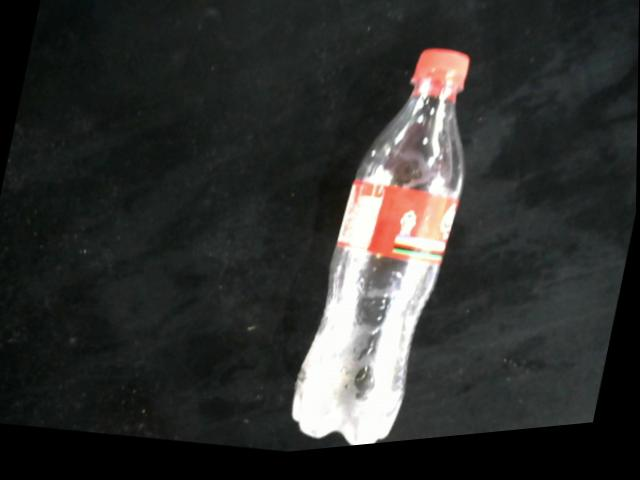bottle: (291, 55, 471, 453)
